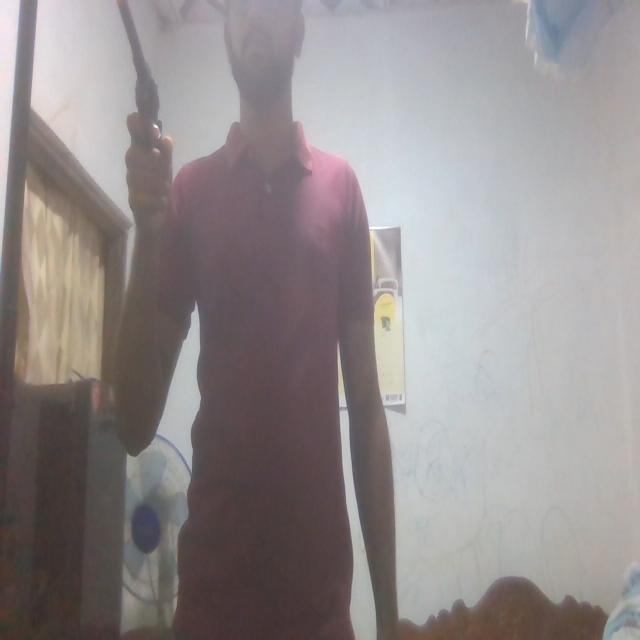Gun_Holder: (108, 1, 182, 210)
Person: (111, 0, 397, 640)
